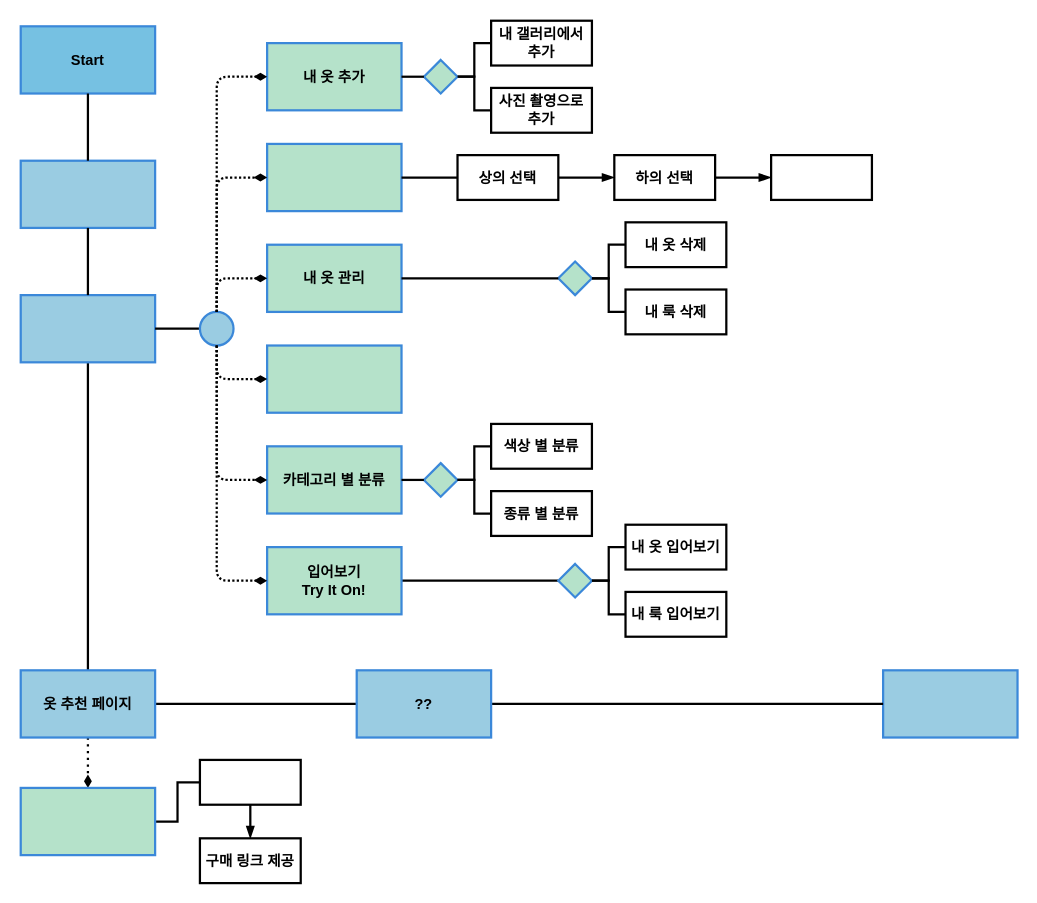
This 1037x903 diagram has some shape labels left out. The shapes that lost their labels are listed below. From the top down, each one's box as (x1, y1, x2, y2) in pixels, then its label:
(19, 159, 156, 228): 로그인
(265, 142, 402, 212): 내 룩 추가
(769, 153, 872, 200): 신발 선택
(19, 293, 156, 363): 내 옷장 페이지
(265, 344, 402, 413): 내 아바타 촬영
(881, 669, 1018, 738): 환경설정
(198, 758, 301, 805): 옷 추천 결과
(19, 786, 156, 856): 추천 기반 옷 선택
